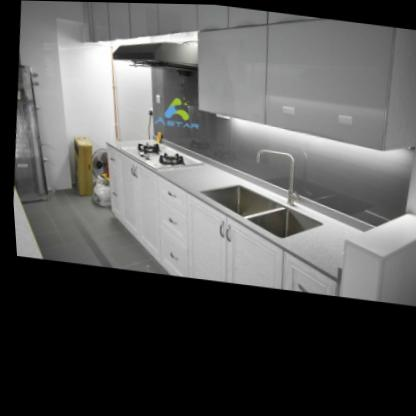Cabinet: (90, 141, 347, 294), (185, 3, 407, 151)
